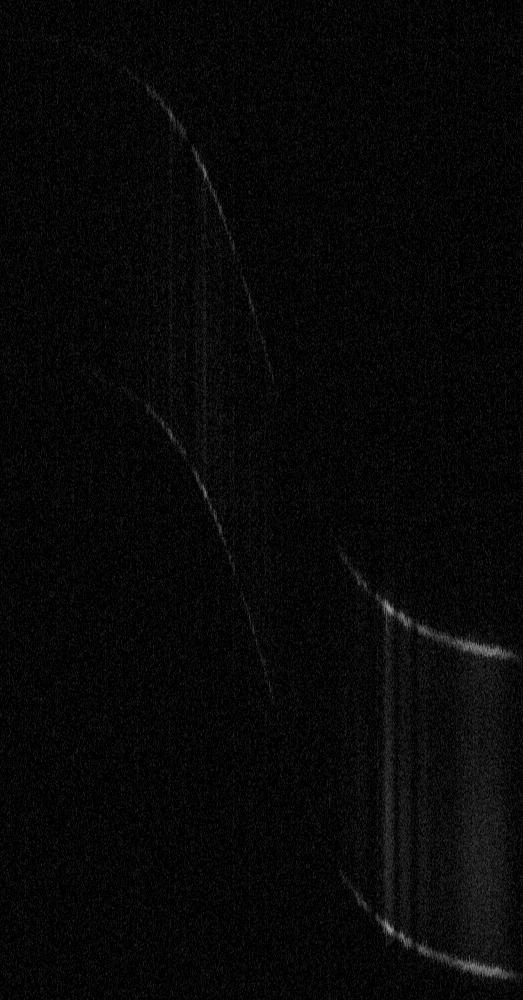signal: (0, 0, 522, 999)
